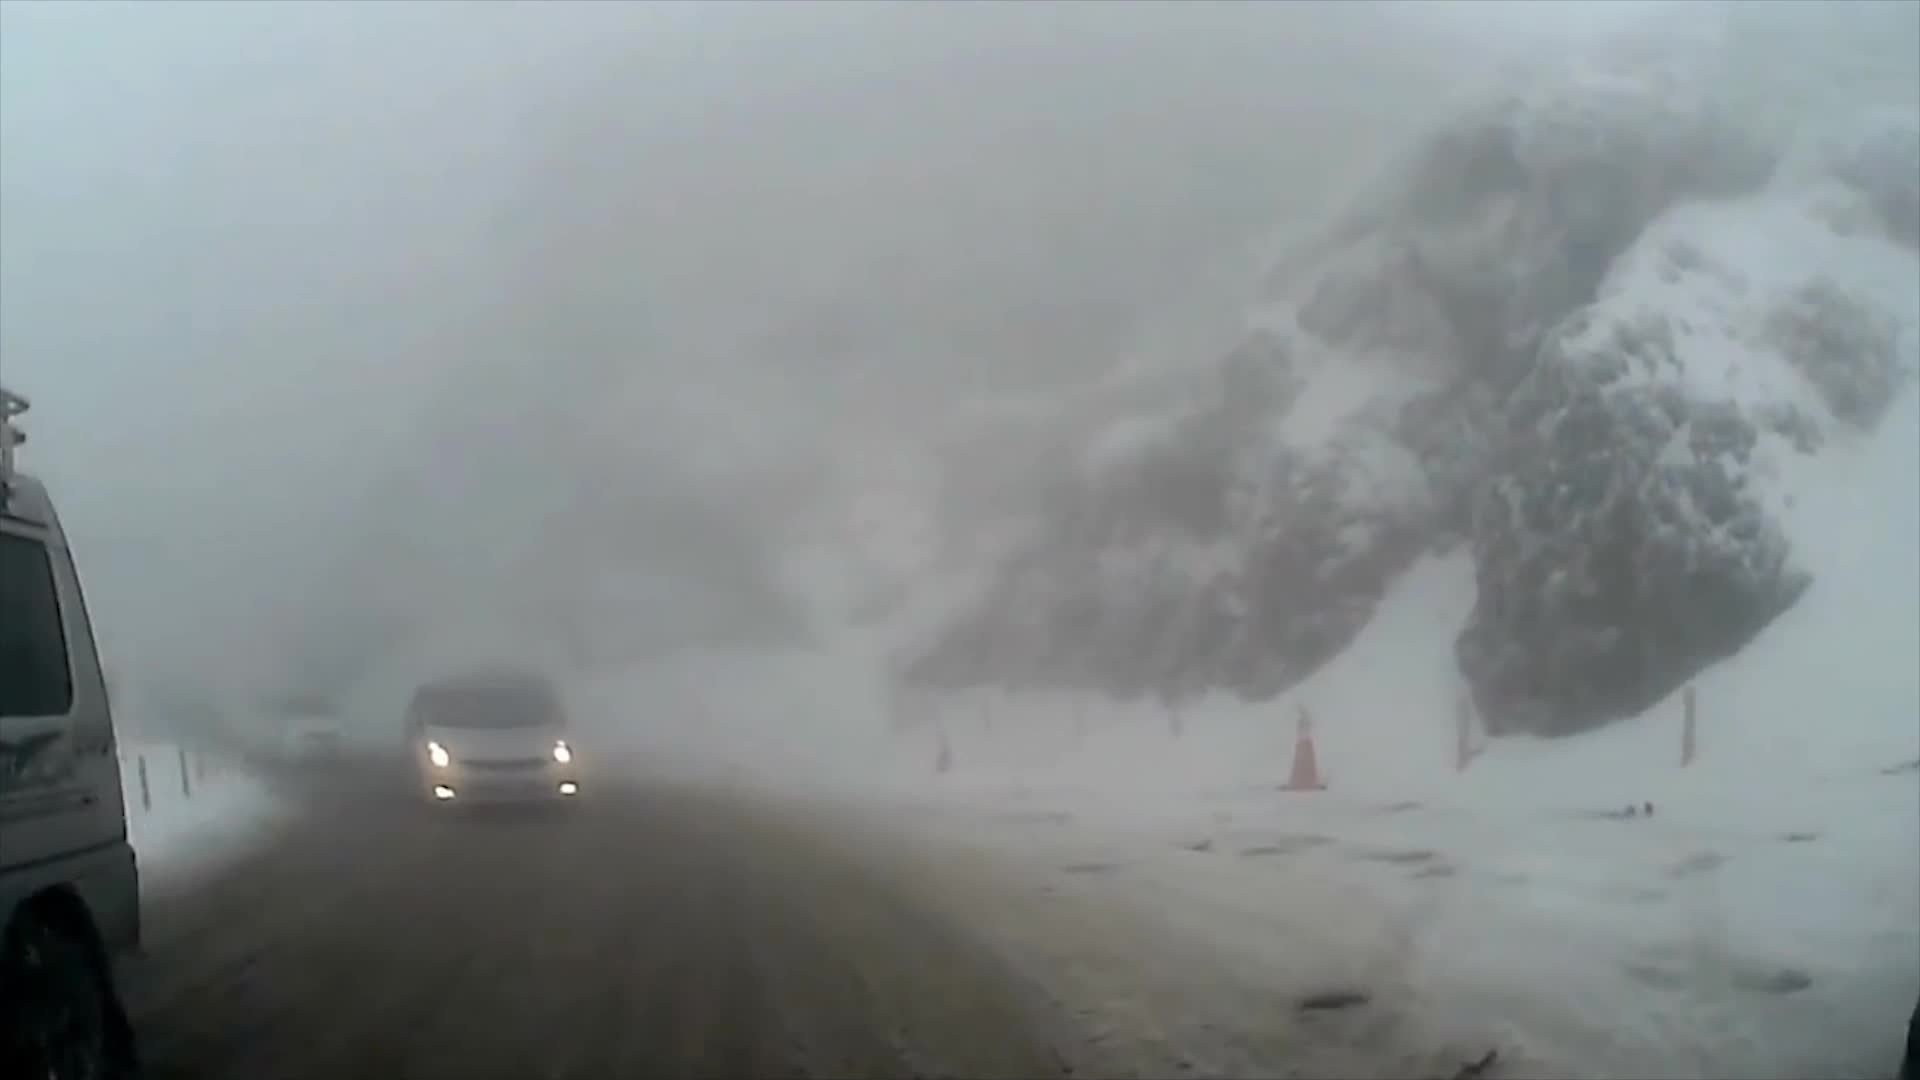vehicle: (0, 385, 141, 1079), (392, 675, 574, 825)
